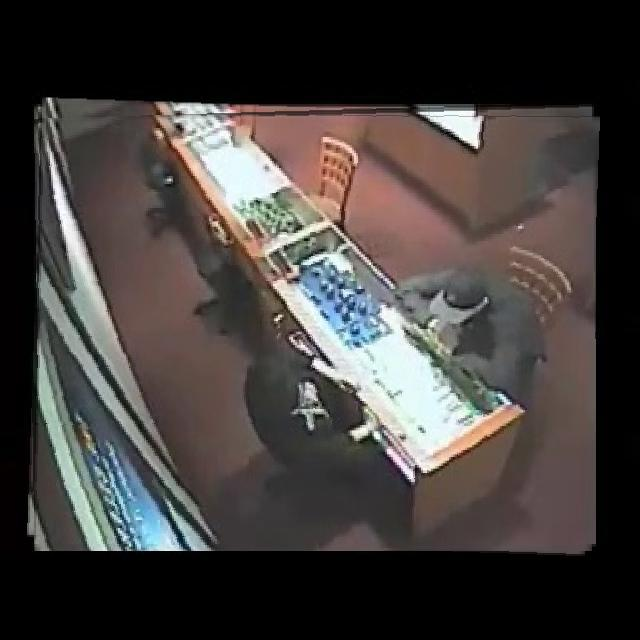Normal: (28, 102, 596, 551)
